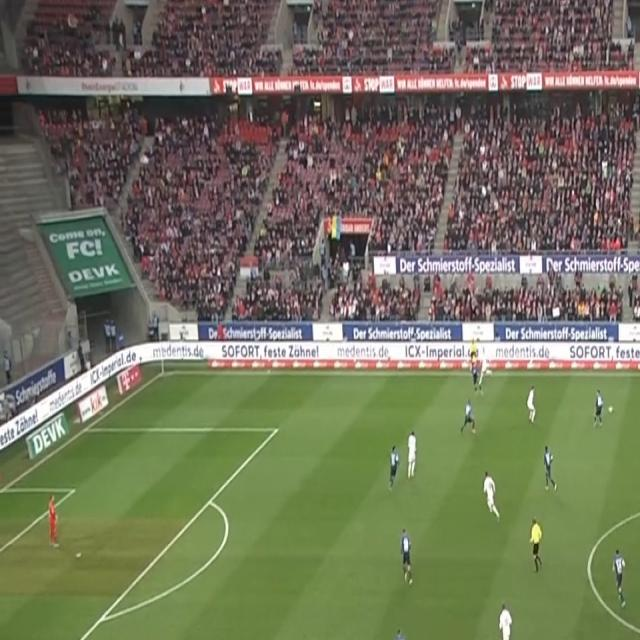ball: (608, 404, 614, 416)
